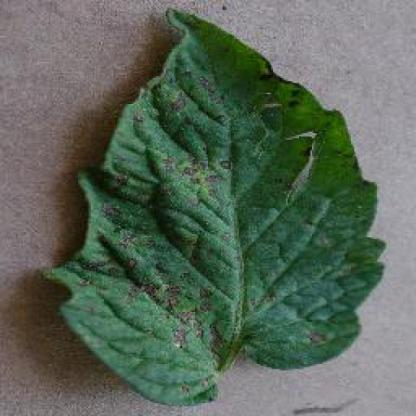Tomato_Blight: (38, 7, 386, 398)
